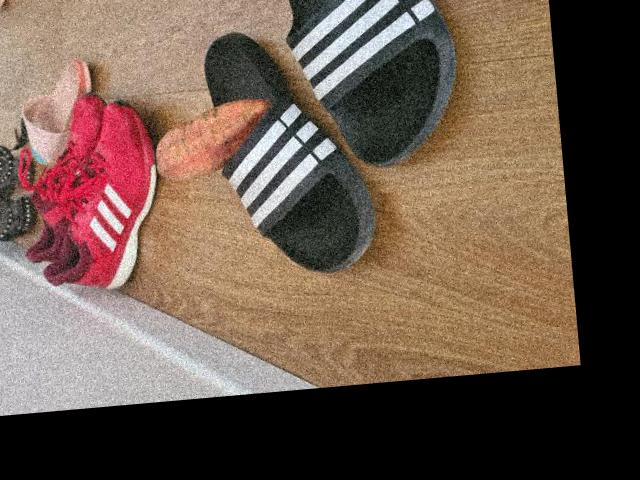sweet_potato: (150, 97, 281, 183)
